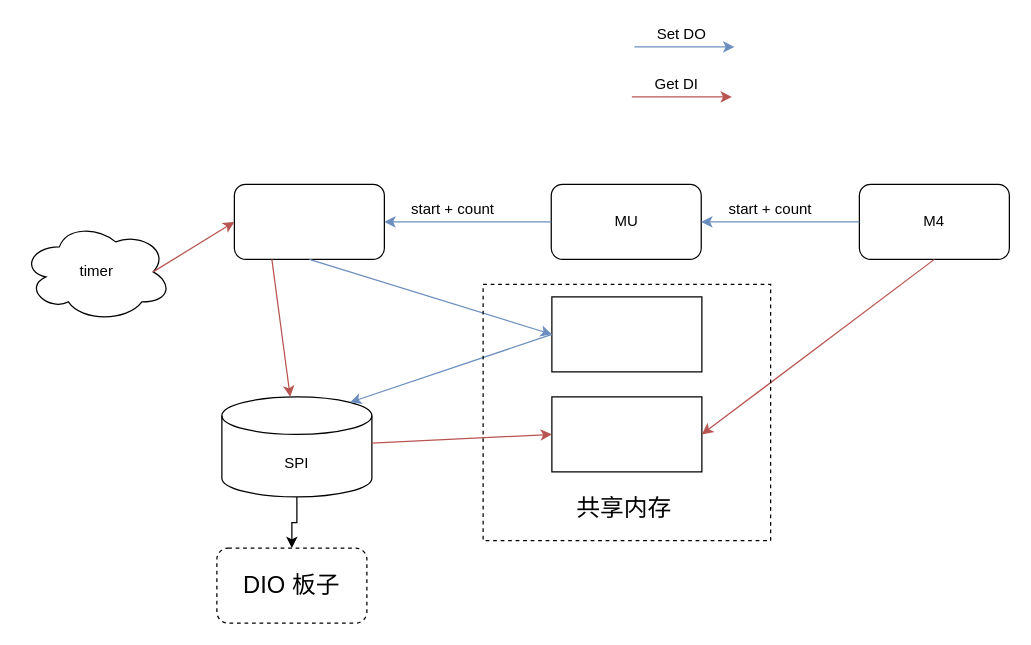
Some shapes in this 1031 by 645 pixel diagram are drawn without their labels. The centre of each missing label's shape, as x and y in pixels:
A9: the point at 308,221
DI: the point at 626,434
DO: the point at 626,334
